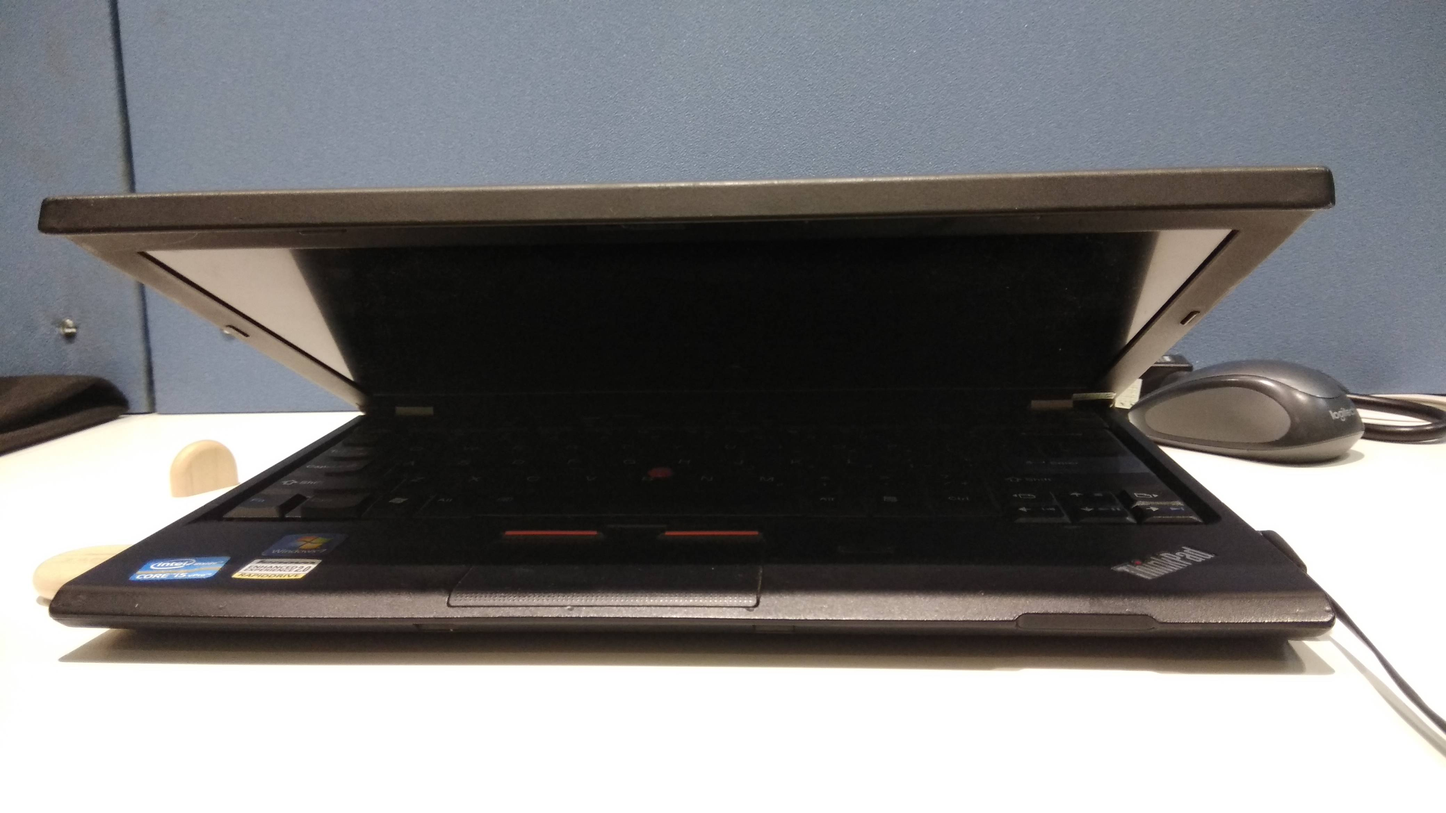Electronics: (11, 158, 1357, 685)
